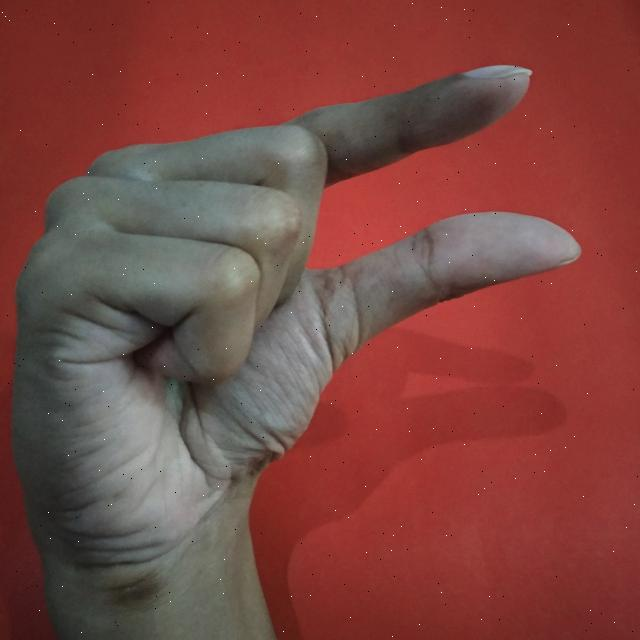G: (9, 58, 585, 640)
